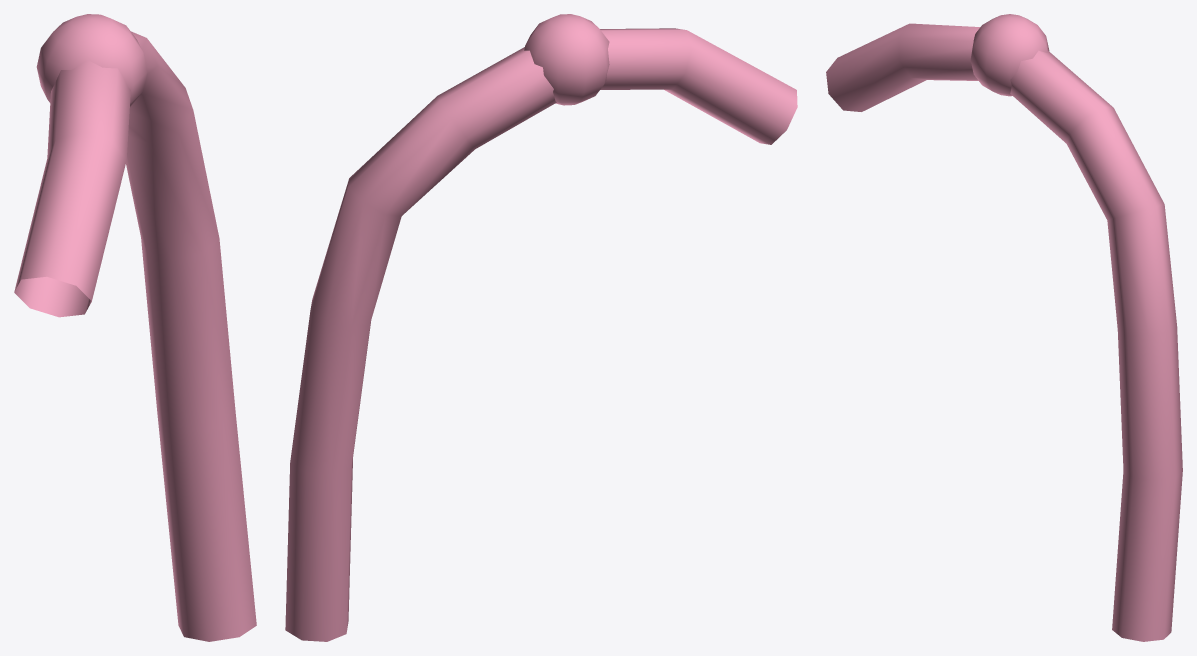
File: facial_nerve.glb
3 views of the same model, side by side, from view 1: azimuth 30°, elevation 25°; view 2: azimuth 150°, elevation 25°; view 3: azimuth 270°, elevation 25° (orthographic). The views are drawn at different scales.
Parts seen in each view (by area): view 1: SAMPLE facial_nerve; view 2: SAMPLE facial_nerve; view 3: SAMPLE facial_nerve.
Part boxes in pixels (left/top/right/bottom): SAMPLE facial_nerve: left=14, top=14, right=256, bottom=641; SAMPLE facial_nerve: left=285, top=14, right=797, bottom=641; SAMPLE facial_nerve: left=826, top=14, right=1182, bottom=641.
Bounding box in the file's own units: 6.33 × 10.37 × 6.23.
